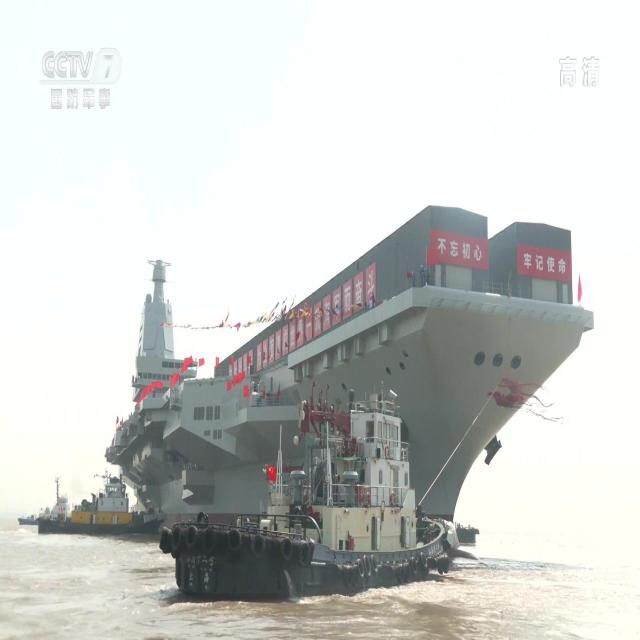Aircraft-Carrier-Fujian-Class-CHI: (105, 190, 590, 558)
